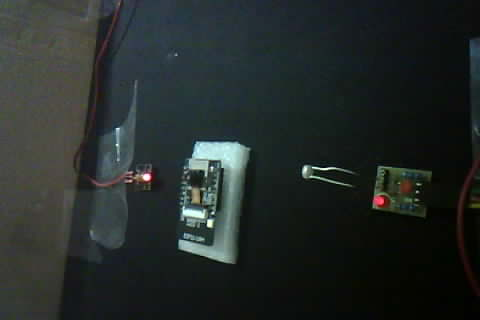esp32: (175, 140, 252, 265)
